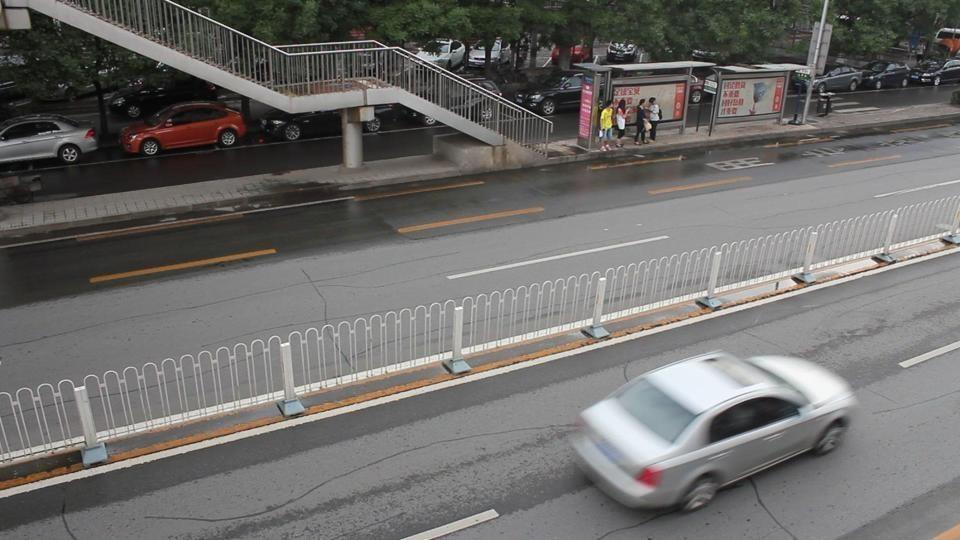car: (570, 349, 856, 513), (118, 102, 248, 157), (1, 114, 99, 168), (108, 79, 212, 119), (258, 109, 379, 143), (516, 72, 592, 115), (415, 39, 466, 70), (811, 67, 867, 94), (856, 63, 912, 90), (914, 61, 960, 86), (602, 42, 646, 64), (906, 66, 939, 85)
